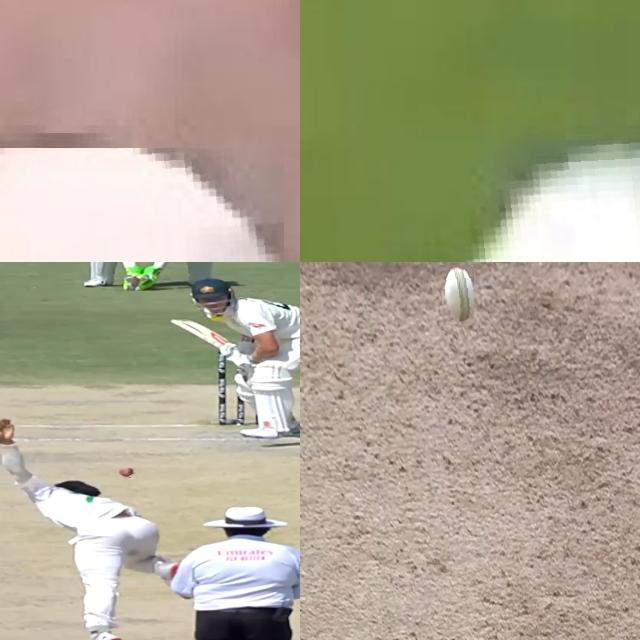Cricket ball: (0, 148, 284, 262), (417, 140, 640, 262), (438, 266, 474, 326), (120, 468, 136, 478)
